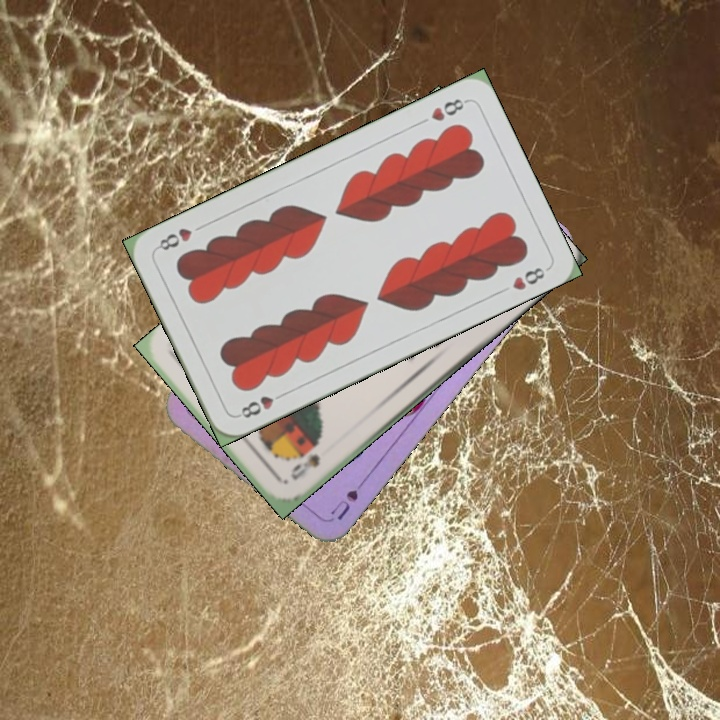H8: (234, 388, 289, 421), (426, 94, 471, 124)
SO: (286, 449, 323, 483)
SU: (326, 471, 371, 524)
